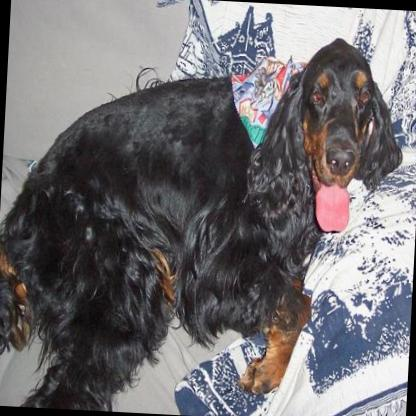Gordon_setter: (0, 18, 406, 416)
